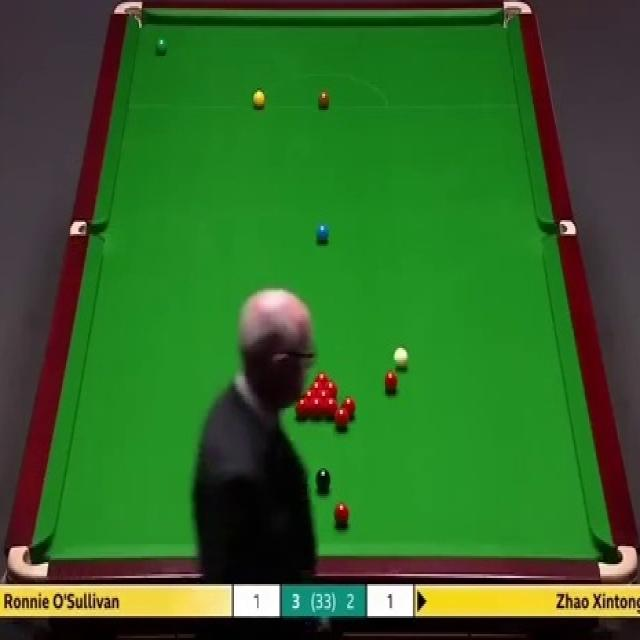pocket: (597, 540, 639, 582), (6, 542, 49, 582), (110, 1, 143, 30), (503, 1, 534, 30), (69, 219, 103, 239), (543, 221, 577, 240)
